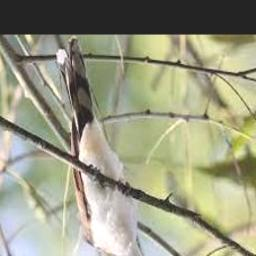Cuckoo: (55, 36, 161, 256)
